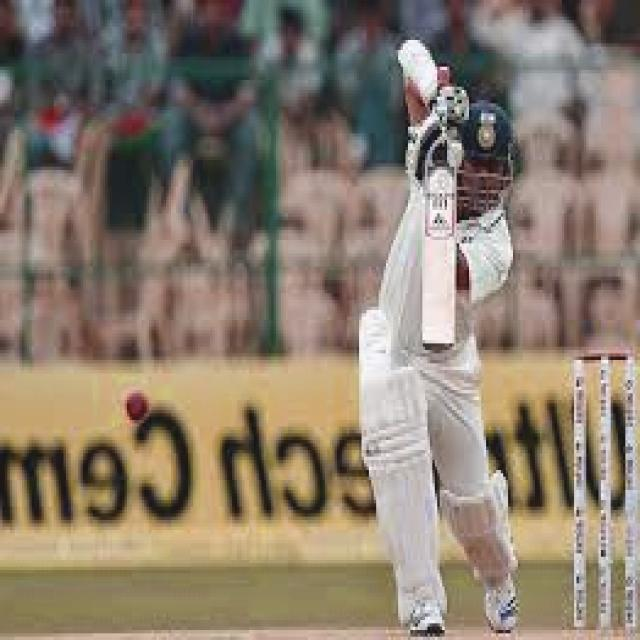bat: (416, 161, 466, 358)
toe: (422, 341, 455, 353)
